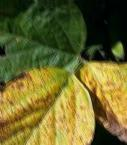Tomato Septoria leaf spot: (0, 0, 86, 86), (0, 67, 92, 145), (76, 55, 127, 145)
